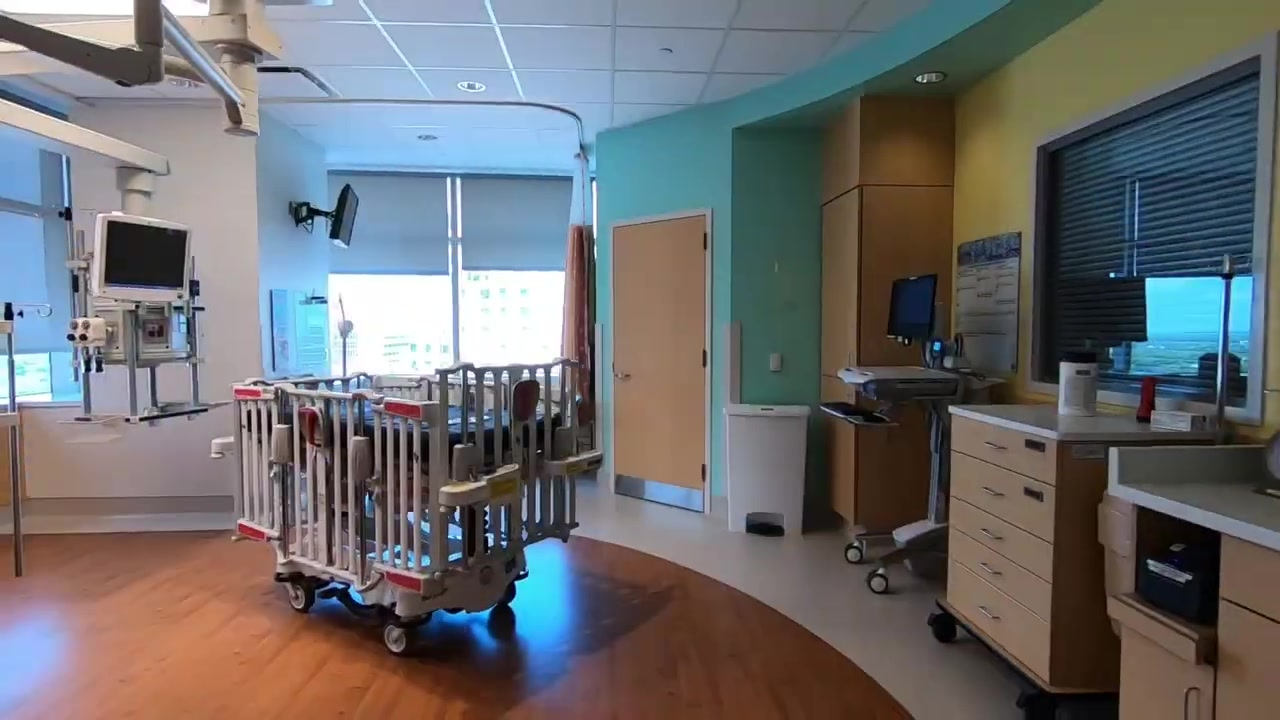TV: (332, 185, 359, 247)
bedrail: (231, 381, 436, 598), (433, 364, 577, 548)
bedside_monitor: (97, 217, 193, 299)
computer: (1057, 273, 1152, 349), (890, 276, 936, 338)
countertop: (1115, 475, 1278, 547)
curtain: (566, 155, 600, 415)
door_handle: (618, 371, 634, 380)
handle: (1183, 683, 1202, 720), (978, 561, 1003, 575), (983, 437, 1007, 451), (978, 527, 1002, 541), (979, 607, 1000, 620), (983, 486, 1001, 497)
hospital_bed: (204, 354, 593, 651)
iv_pole: (1, 301, 52, 574), (338, 295, 355, 381)
keyboard: (819, 399, 864, 428)
medical_drawer: (938, 400, 1218, 716)
waste_bin: (726, 405, 806, 536)
